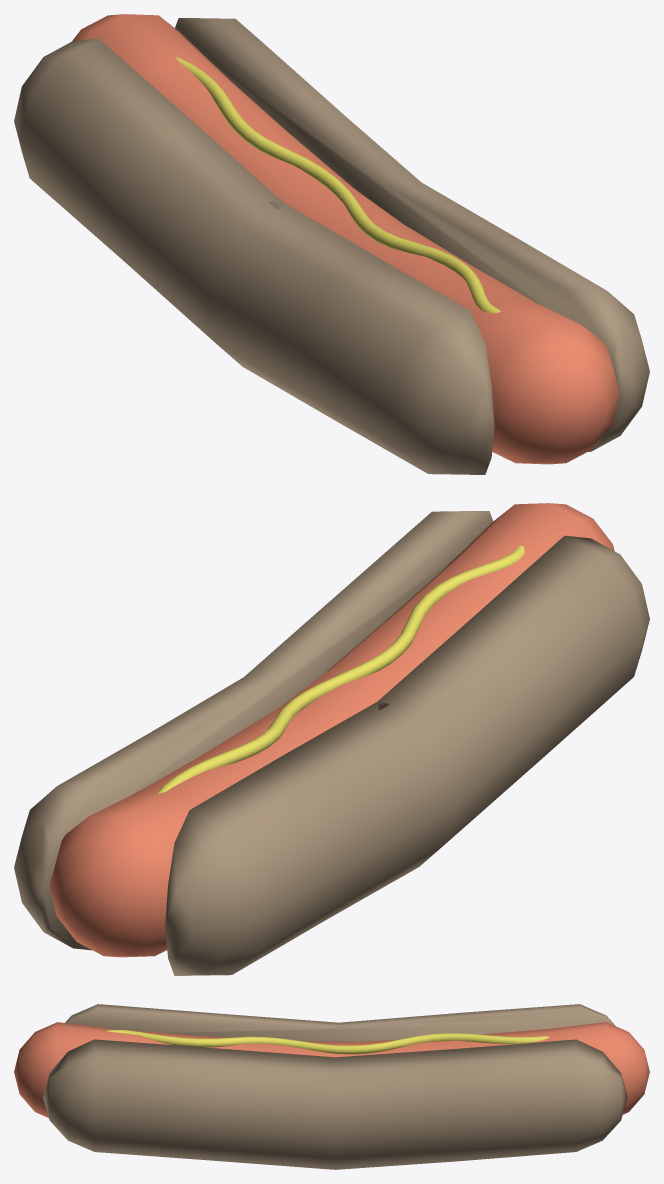
The model's file is HotDog.glb.
The picture shows the model from 3 angles, top to bottom: view 1: azimuth 30°, elevation 25°; view 2: azimuth 150°, elevation 25°; view 3: azimuth 270°, elevation 25°; orthographic projection. The views are drawn at different scales.
Visible parts, largest first — view 1: Sphere.001; view 2: Sphere.001; view 3: Sphere.001.
Part boxes in pixels (x1,y1,x2,y2): Sphere.001: (14, 14, 649, 474); Sphere.001: (14, 503, 649, 975); Sphere.001: (14, 1004, 649, 1169).
Bounding box in the file's own units: 2.83 × 2.09 × 9.63.
